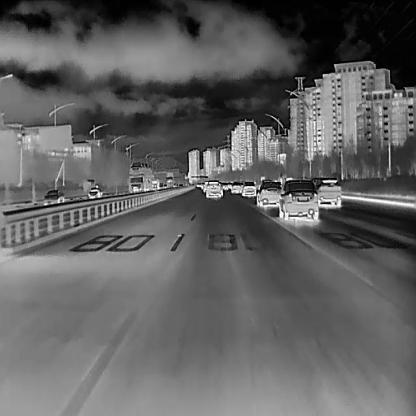car: (277, 177, 318, 220), (309, 177, 342, 208), (128, 160, 154, 194), (256, 180, 282, 207), (43, 189, 64, 207), (204, 178, 221, 197), (239, 179, 256, 196), (87, 187, 102, 200), (230, 181, 243, 194), (150, 177, 159, 191), (165, 178, 174, 188), (158, 181, 164, 189), (163, 183, 167, 188)
